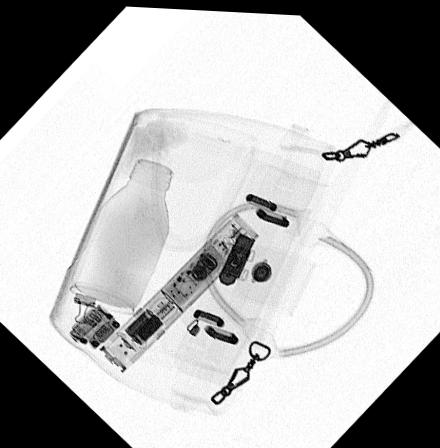Baton: (96, 207, 259, 374)
